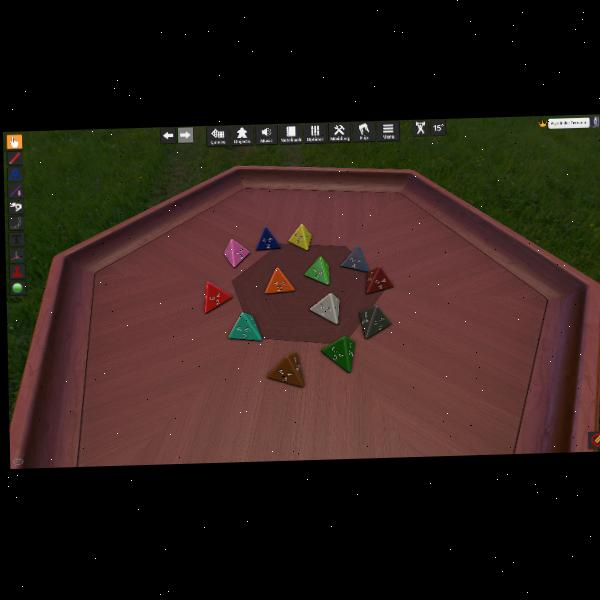d4: (267, 352, 306, 387), (320, 336, 354, 373), (360, 304, 391, 339), (309, 293, 341, 325), (228, 311, 261, 341), (203, 280, 230, 313), (265, 267, 296, 295), (224, 238, 250, 269), (340, 245, 368, 273), (304, 255, 330, 285), (366, 265, 393, 293), (255, 225, 280, 251), (288, 223, 311, 251)
